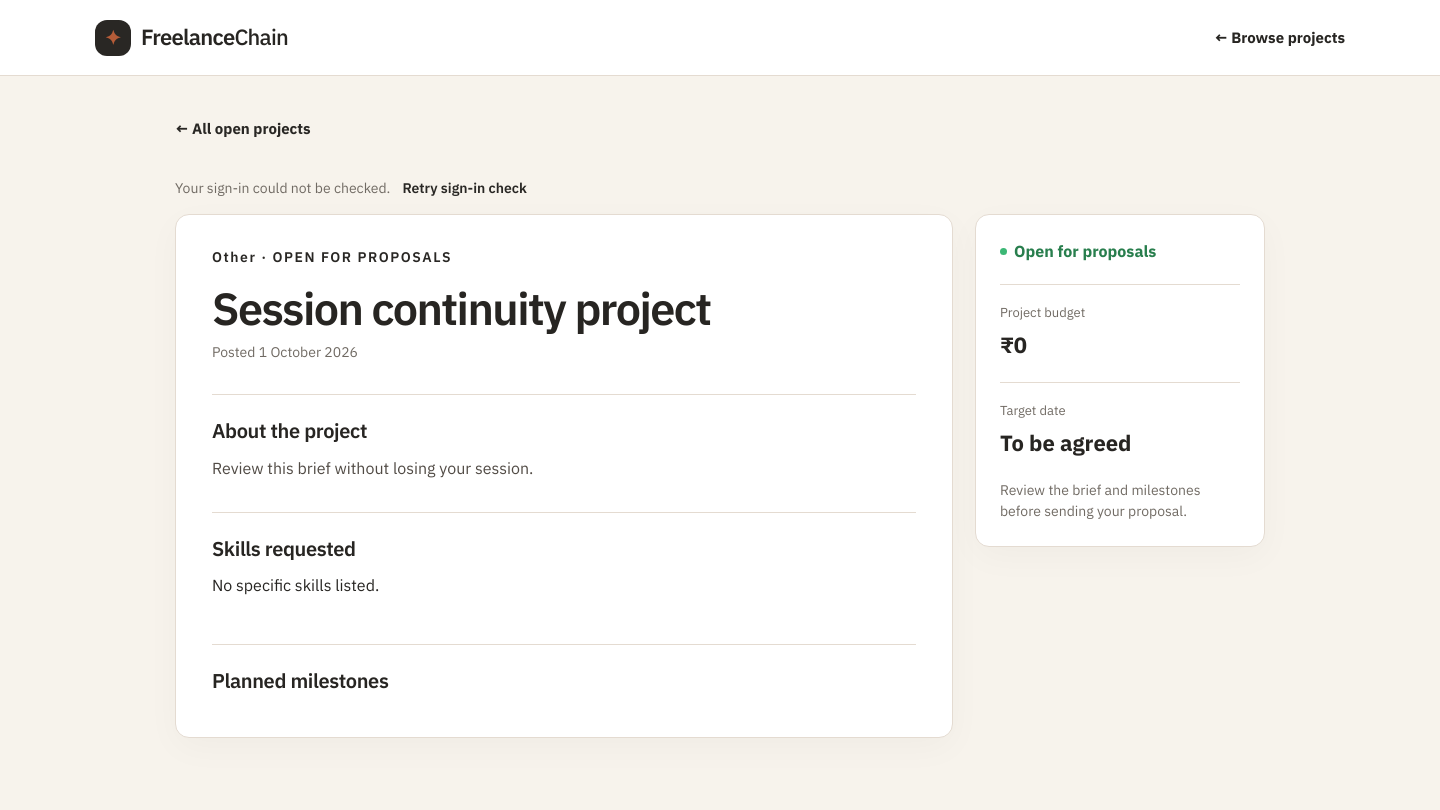
Test: a failed session check can be retried while the public brief stays readable
Expected: the message "Your sign-in could not be checked. Retry sign-in check" is shown, x1=175 y1=178 x2=527 y2=200
Expected: the heading "Session continuity project" is shown, x1=212 y1=279 x2=711 y2=337
Click the button "Retry sign-in check". click: (465, 189)
box: x1=402 y1=178 x2=527 y2=200
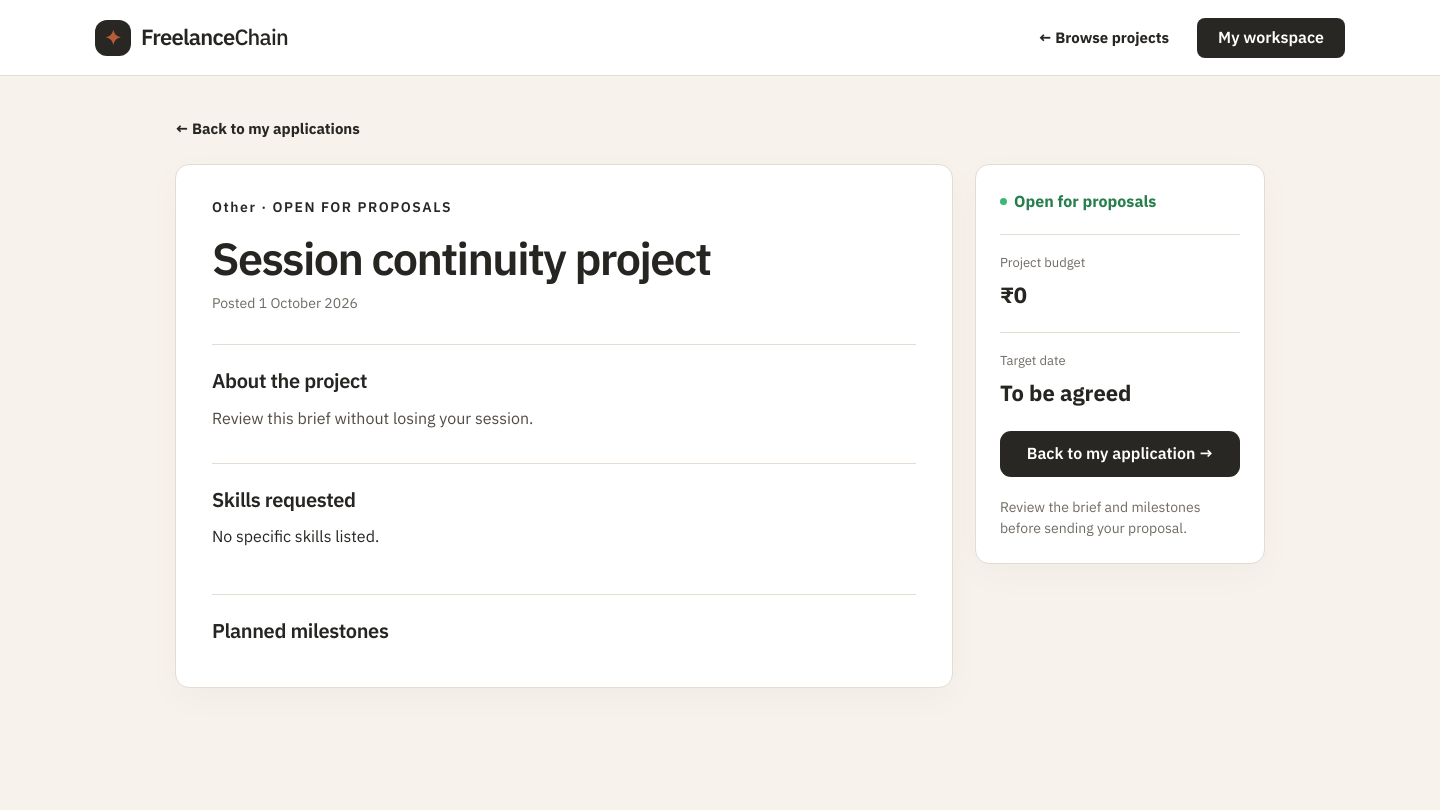
Expected: the link "Back to my application →" is shown, x1=1000 y1=430 x2=1240 y2=476
